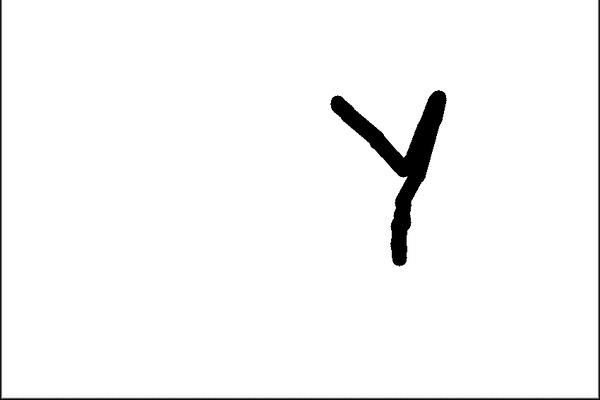Y: (323, 79, 454, 275)
